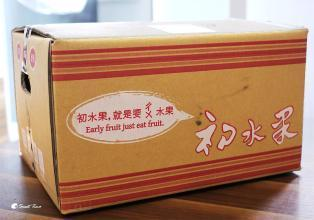cardboard: (12, 20, 301, 212)
